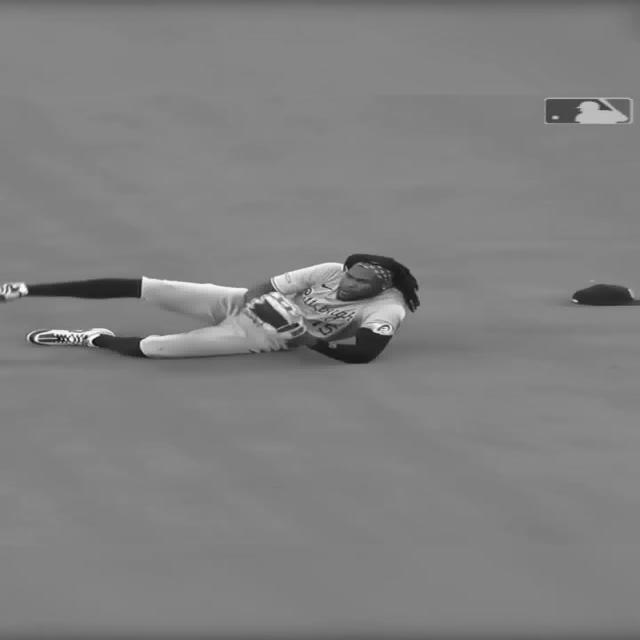baseball_glove: (242, 292, 308, 338)
shoe: (29, 327, 117, 351), (0, 282, 23, 306)
